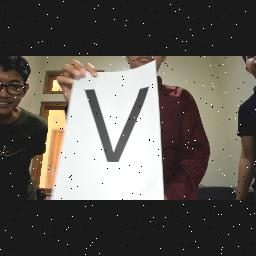v: (81, 82, 159, 168)
